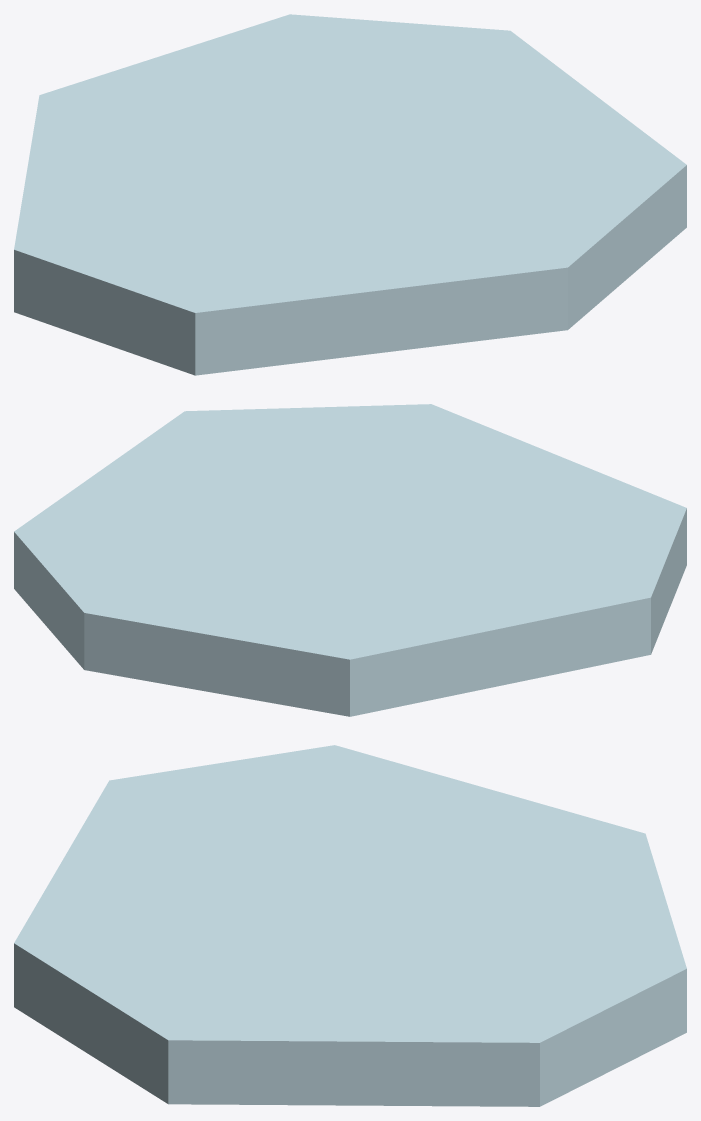
File: SM_Env_Ice_01.gltf
3 views of the same model, one above another, from view 1: azimuth 30°, elevation 25°; view 2: azimuth 150°, elevation 25°; view 3: azimuth 270°, elevation 25° (orthographic). The views are drawn at different scales.
Parts seen in each view (by area): view 1: SM_Env_Ice_01; view 2: SM_Env_Ice_01; view 3: SM_Env_Ice_01.
Part boxes in pixels (left/top/right/bottom): SM_Env_Ice_01: left=14, top=14, right=686, bottom=375; SM_Env_Ice_01: left=14, top=404, right=686, bottom=716; SM_Env_Ice_01: left=14, top=745, right=686, bottom=1106.
Size of the model in its own units: 1.77 by 0.1777 by 1.69.
1 material, 1 textured.
